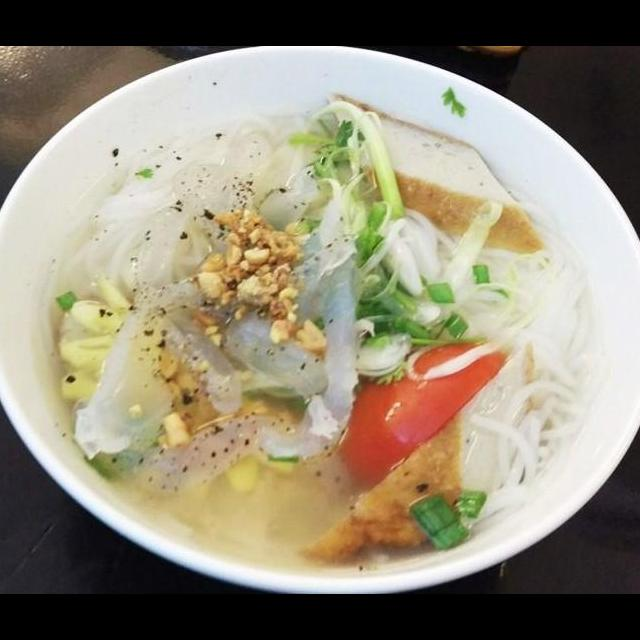bun: (452, 187, 596, 530)
